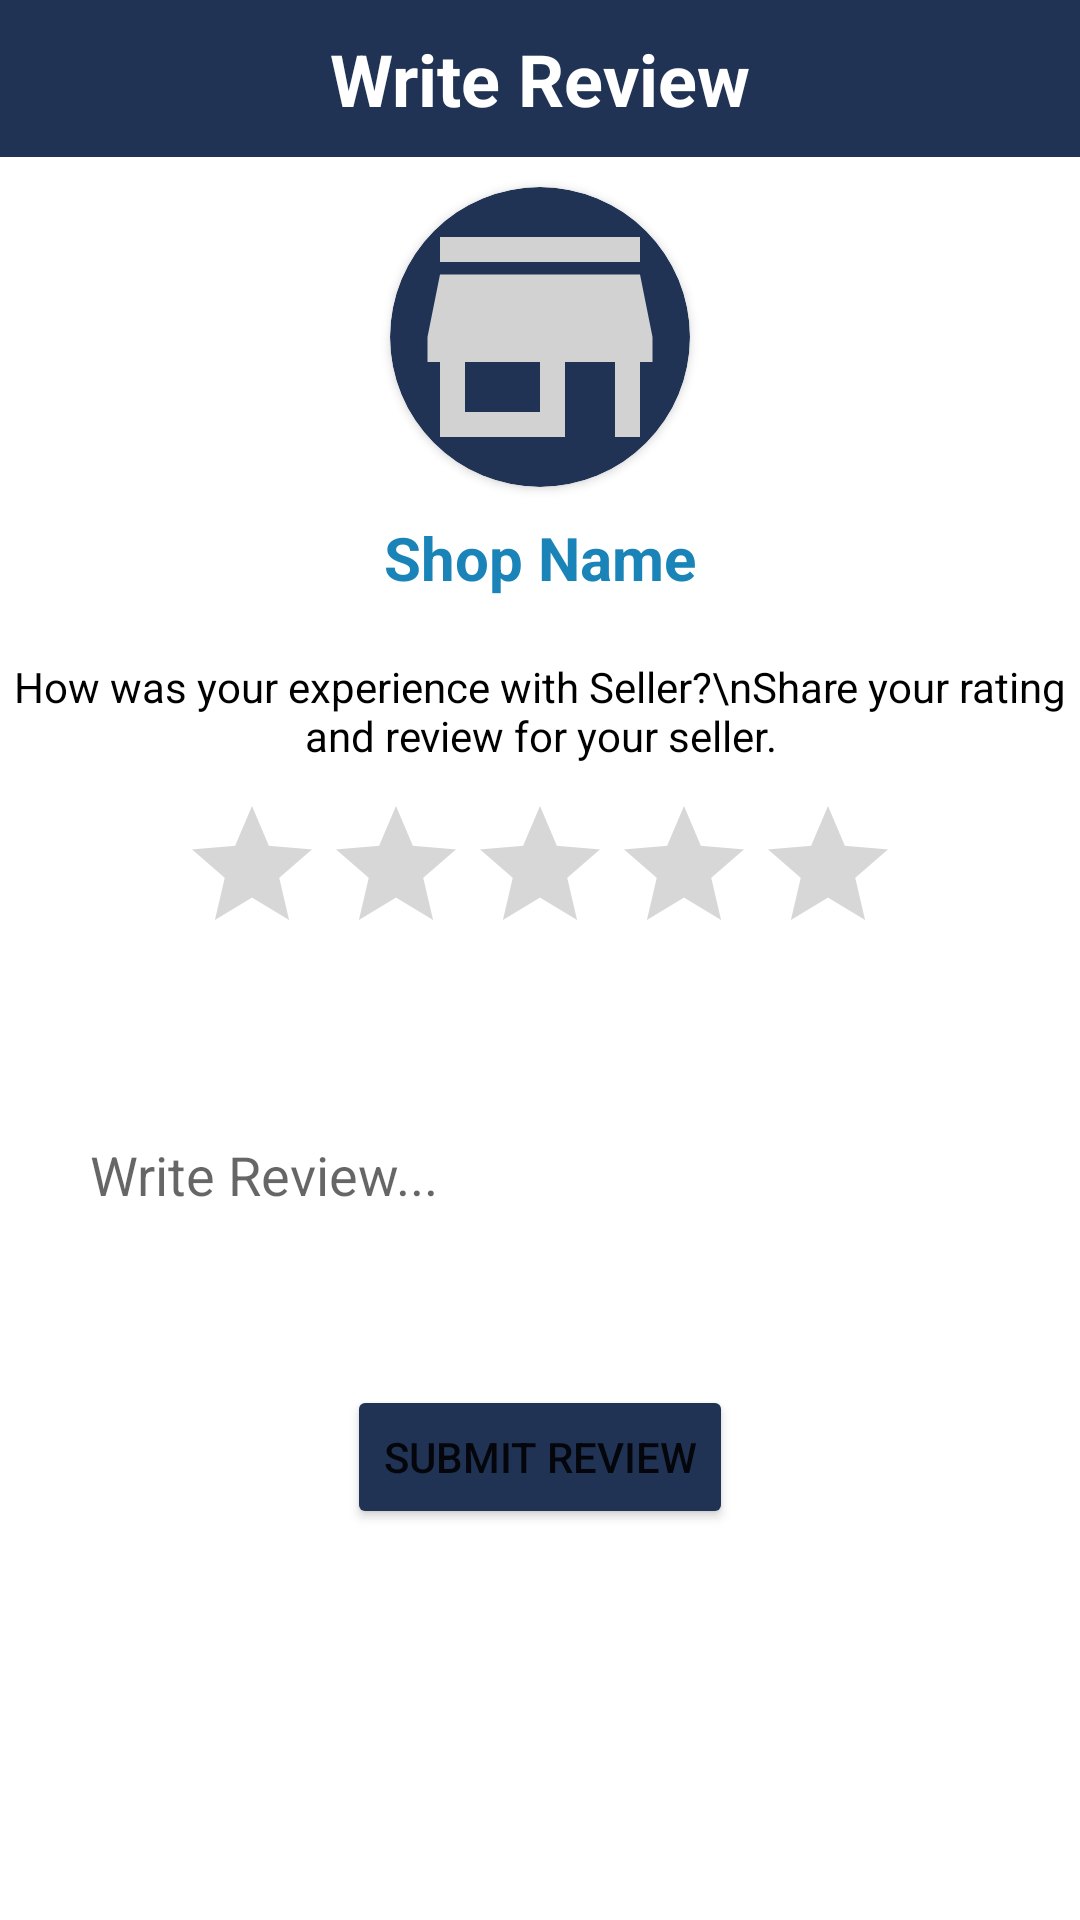

Icon click points for this 1080×1920 phone screenshot, format [x,y]:
store: [540,337]
